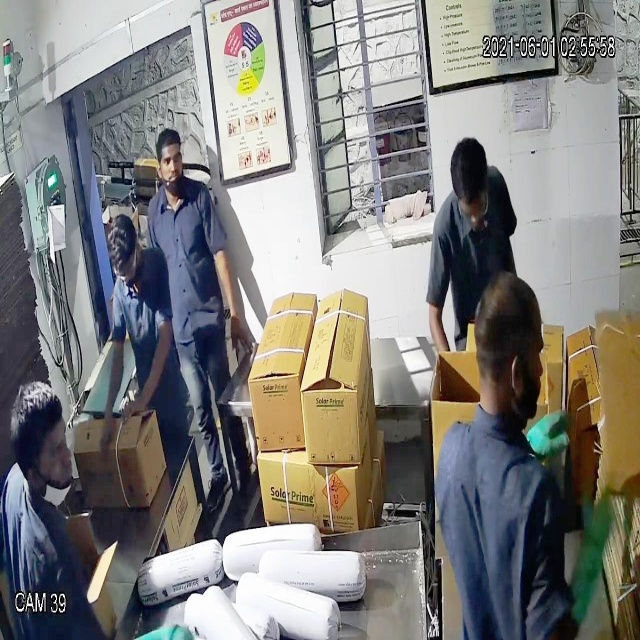Gafas: (110, 253, 140, 284)
